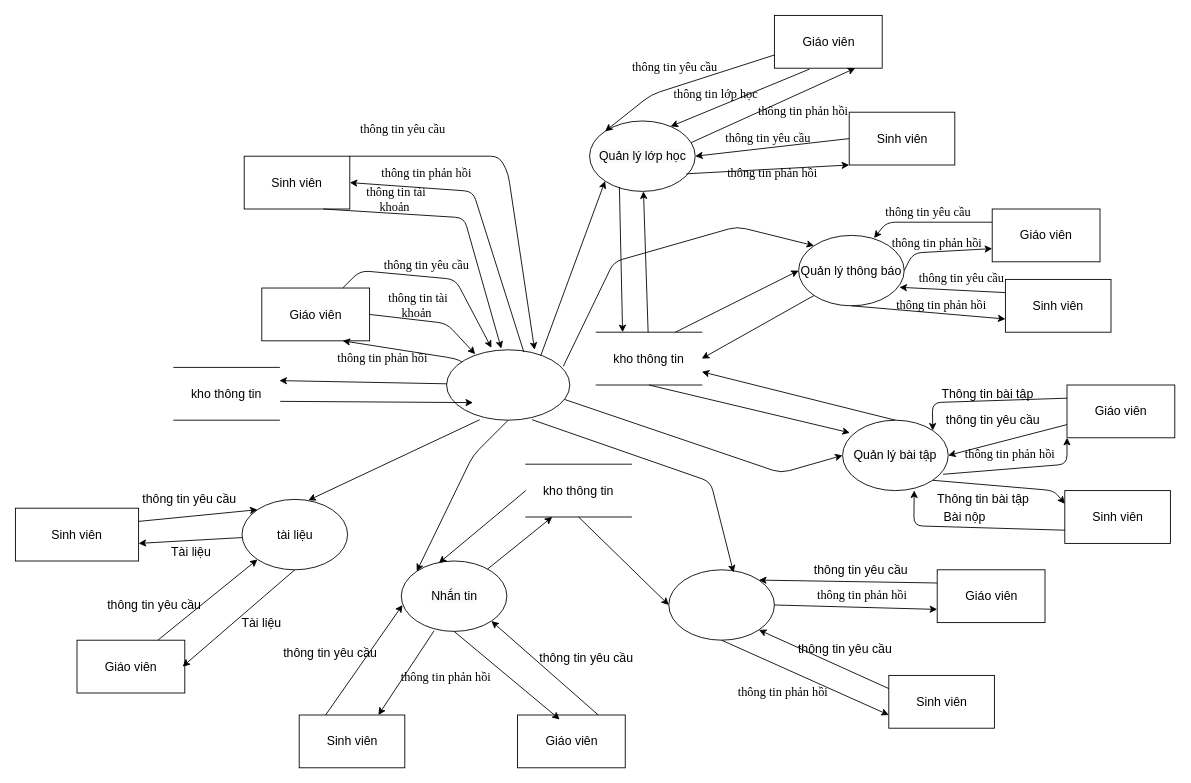
Some shapes in this 1191 by 783 pixel diagram are drawn without their labels. The shapes that lost their labels are listed below. From the top down, each one's centre as x and y in pixels, then its label:
(508,384): Quản lý tài khoản
(721,604): thống kê điểm
